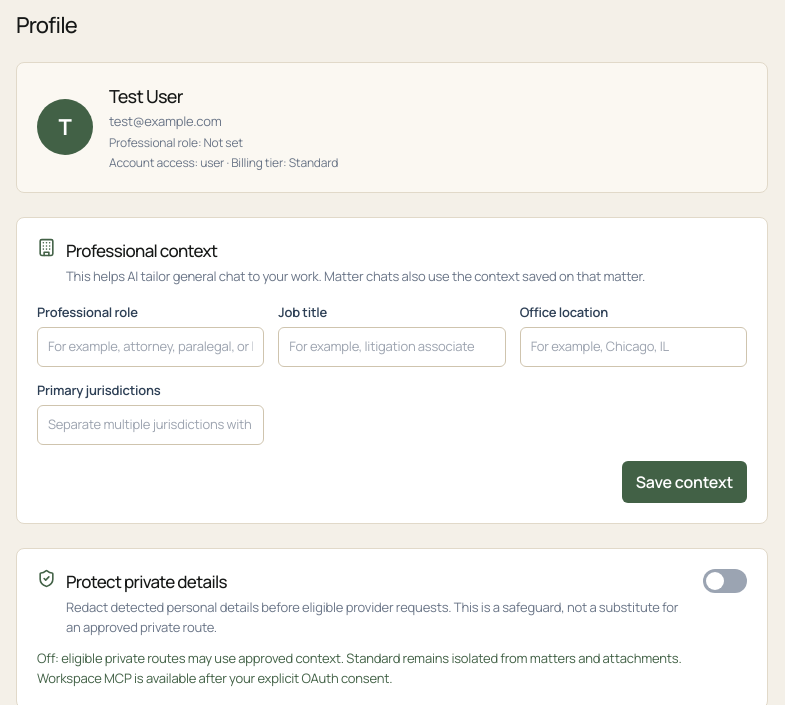
Test: profile context › saves professional context as structured profile fields
In the field labelled "Professional role": (151, 347) [37,327,264,366], type "Attorney"
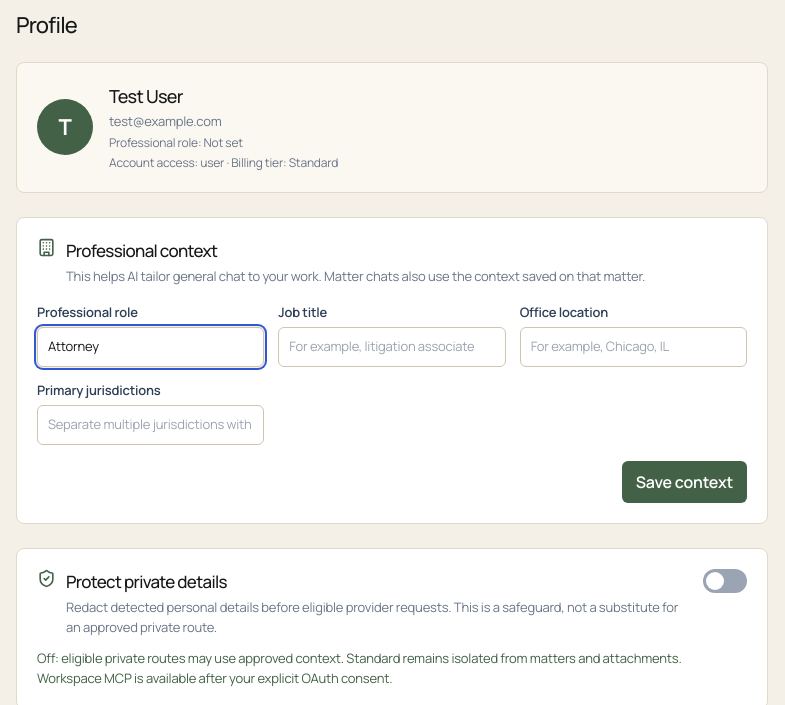
In the field labelled "Job title": (392, 347) [278,327,506,366], type "Litigation Associate"
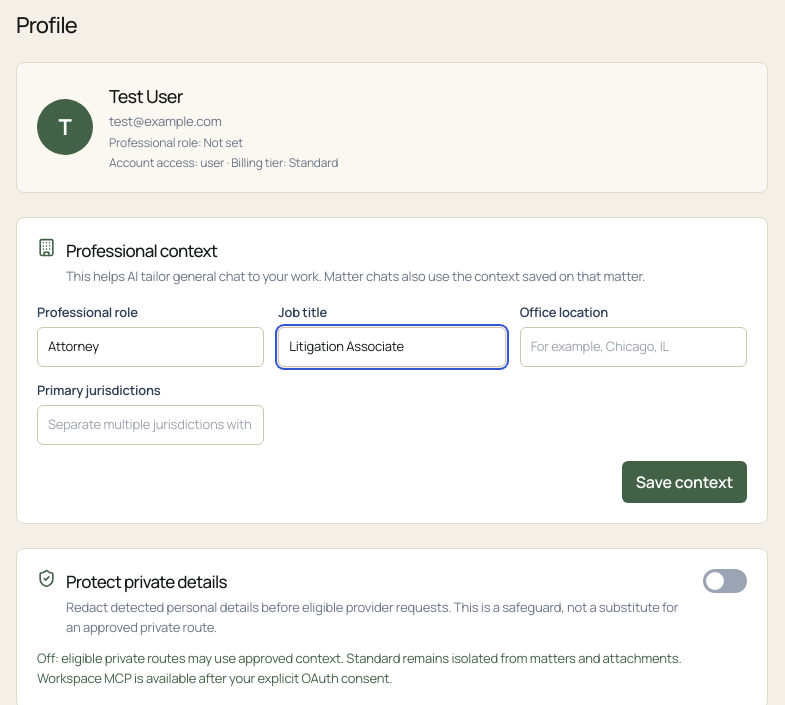
In the field labelled "Office location": (633, 347) [520,327,747,366], type "Chicago, IL"
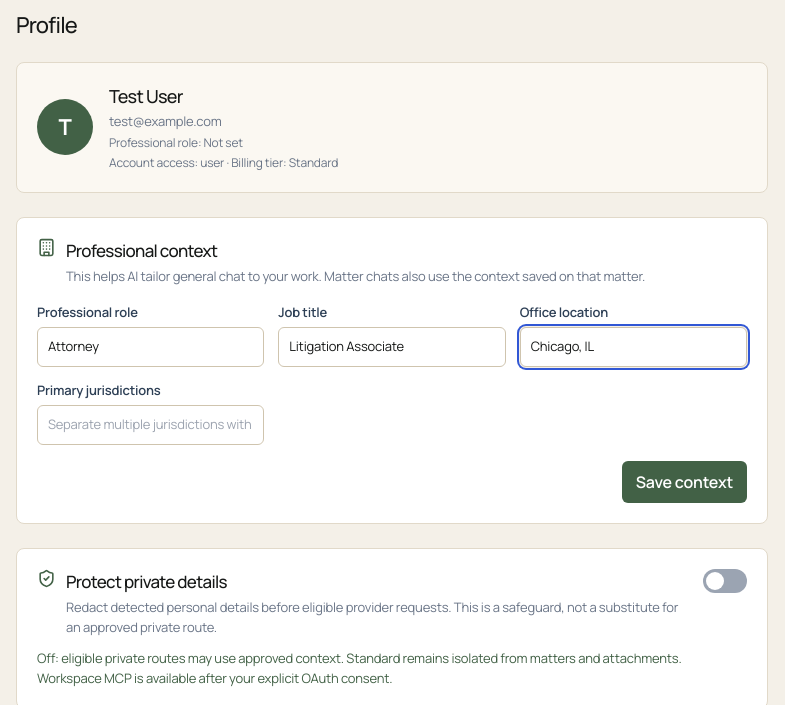
In the field labelled "Primary jurisdictions": (151, 425) [37,405,264,444], type "Illinois, Wisconsin"
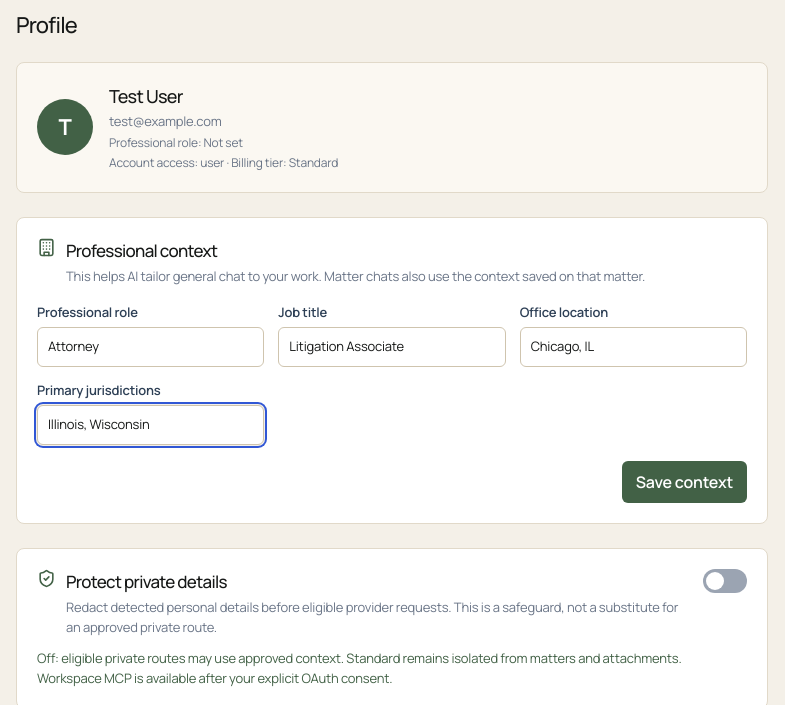
Click the button "Save context": (684, 482) [622,460,747,502]
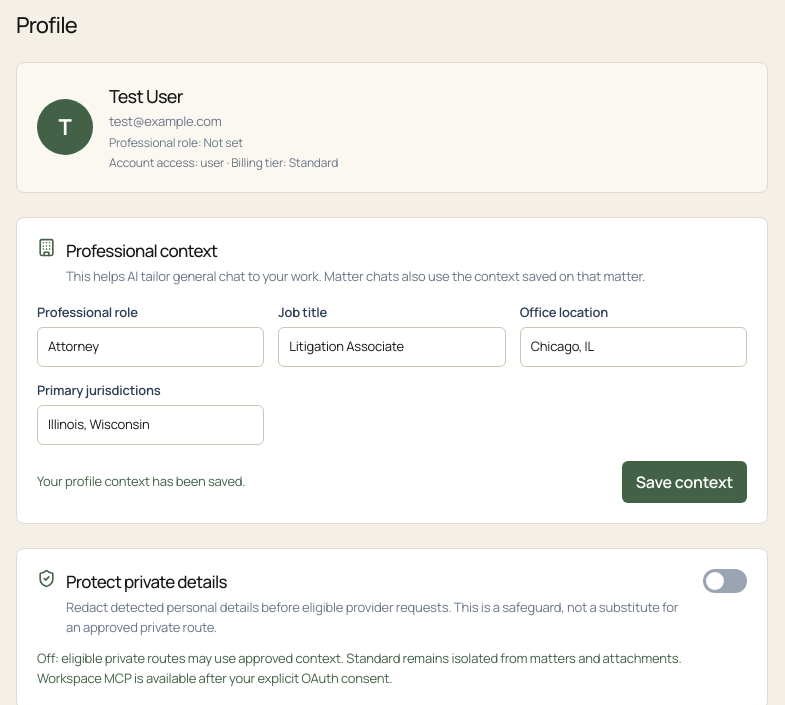
Now the text "Your profile context has been saved." is shown, box [37,472,246,491]
